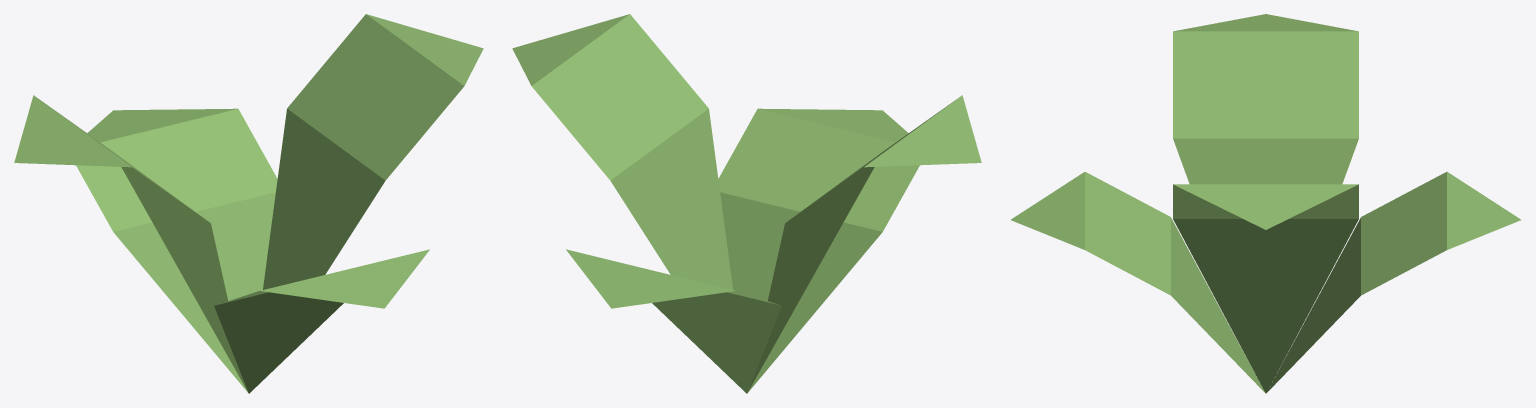
File: bush.glb
3 views of the same model, side by side, from view 1: azimuth 30°, elevation 25°; view 2: azimuth 150°, elevation 25°; view 3: azimuth 270°, elevation 25° (orthographic). The views are drawn at different scales.
Visible parts, largest first — view 1: plant_bush; view 2: plant_bush; view 3: plant_bush.
Part boxes in pixels (x1,y1,x2,y2): plant_bush: (14, 14, 483, 393); plant_bush: (512, 14, 981, 393); plant_bush: (1011, 14, 1520, 393).
Bounding box in the file's own units: 0.729 × 0.45 × 0.729.
